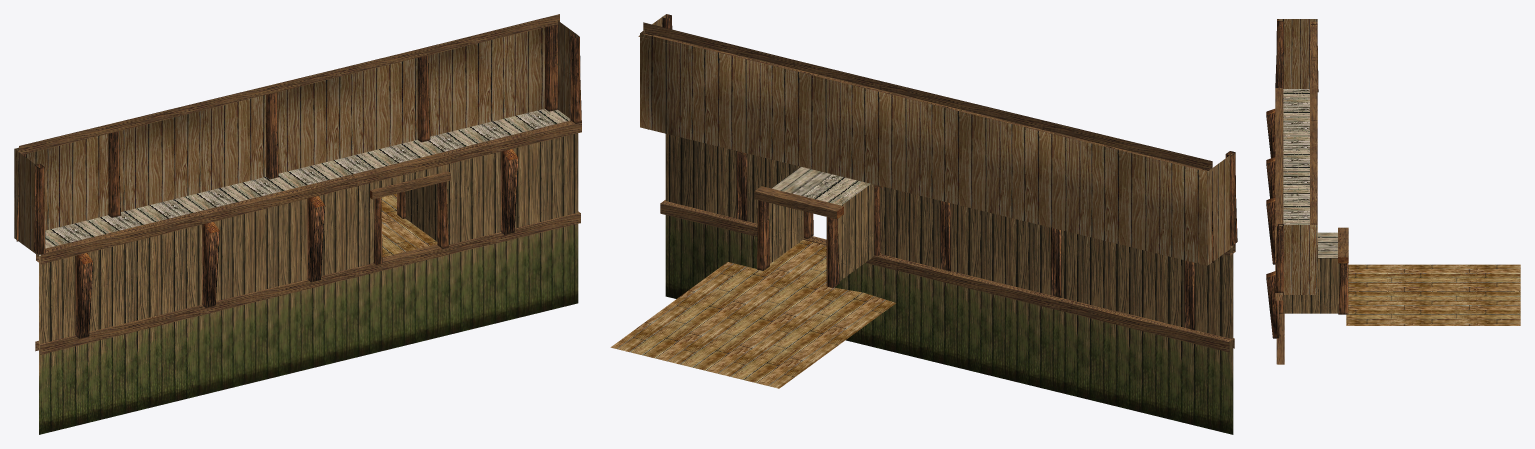
File: LAKETOWN_WAREHOUSE2_PS_WH2_SIDEWALL88477__GX.fbx
The picture shows the model from 3 angles, left to right: view 1: azimuth 30°, elevation 25°; view 2: azimuth 150°, elevation 25°; view 3: azimuth 270°, elevation 25°; orthographic projection. The views are drawn at different scales.
Visible parts, largest first — view 1: LAKETOWN_WAREHOUSE2_PS_WH2_SIDEWALL88477__GX; view 2: LAKETOWN_WAREHOUSE2_PS_WH2_SIDEWALL88477__GX; view 3: LAKETOWN_WAREHOUSE2_PS_WH2_SIDEWALL88477__GX.
Part boxes in pixels (x1,y1,x2,y2): LAKETOWN_WAREHOUSE2_PS_WH2_SIDEWALL88477__GX: (14,14,581,434); LAKETOWN_WAREHOUSE2_PS_WH2_SIDEWALL88477__GX: (610,14,1237,434); LAKETOWN_WAREHOUSE2_PS_WH2_SIDEWALL88477__GX: (1266,19,1520,364).
Size of the model in its own units: 226654 by 109530 by 117524.
Materials: 11 (11 with a texture image).
